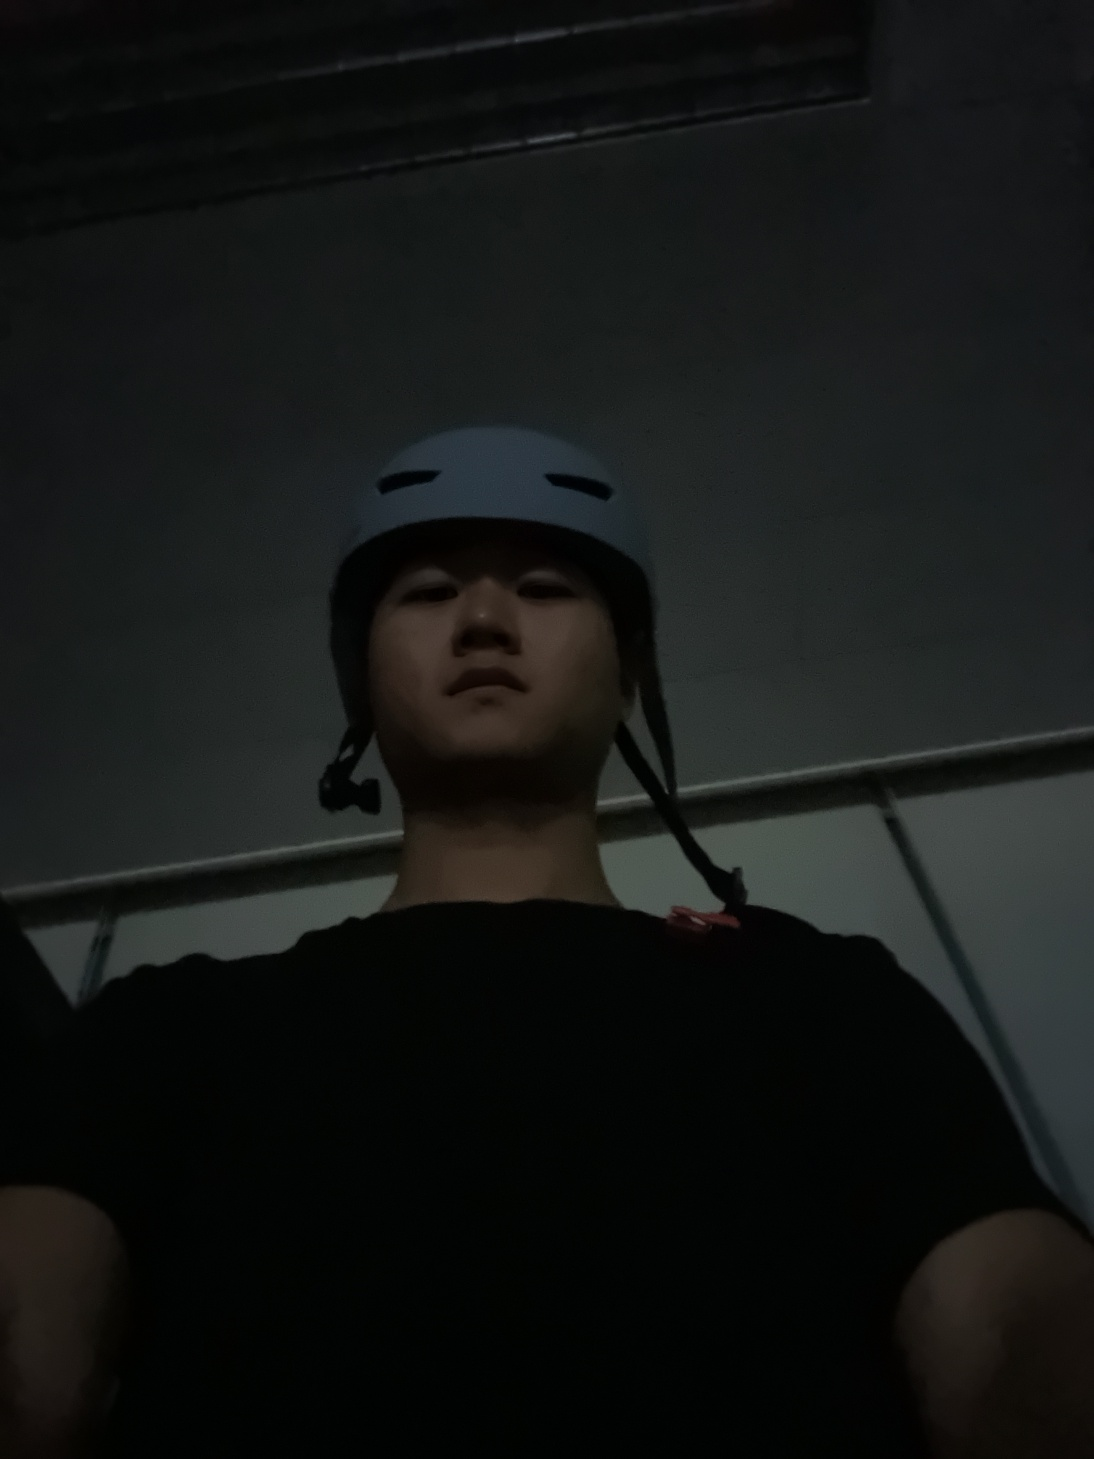Helmet: (272, 381, 734, 847)
